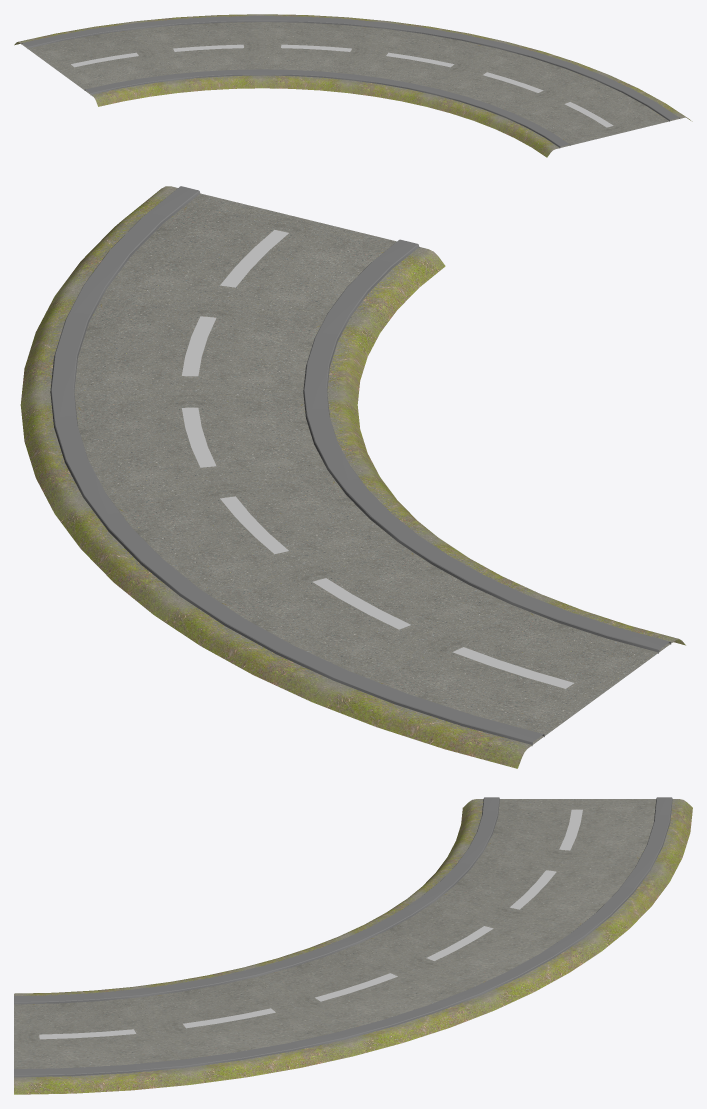
The model's file is SM_road_curve_02.fbx.
3 renders of one model, top to bottom at view 1: azimuth 30°, elevation 25°; view 2: azimuth 150°, elevation 25°; view 3: azimuth 270°, elevation 25°, orthographic. The views are drawn at different scales.
Parts seen in each view (by area): view 1: Plane010; view 2: Plane010; view 3: Plane010.
Boxes of the visible parts, left/top/right/bottom form: Plane010: left=14, top=14, right=692, bottom=157; Plane010: left=20, top=186, right=685, bottom=768; Plane010: left=14, top=797, right=692, bottom=1094.
Bounding box in the file's own units: 543 × 9.41 × 543.
